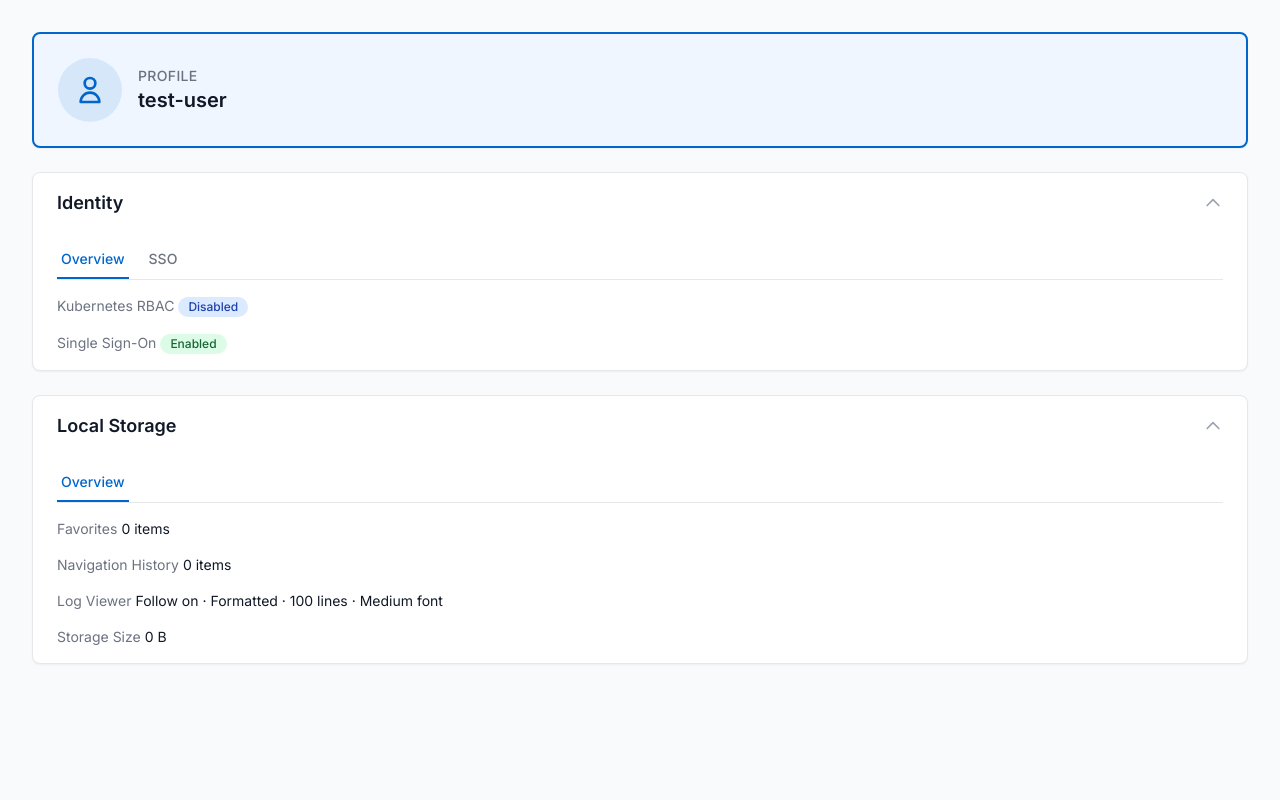
ProfilePage › Identity Panel - SSO Tab › should show provider JSON when SSO tab is clicked
The image size is (1280, 800).
# Click SSO tab
Click the button "SSO": (163, 260) [144,241,181,279]
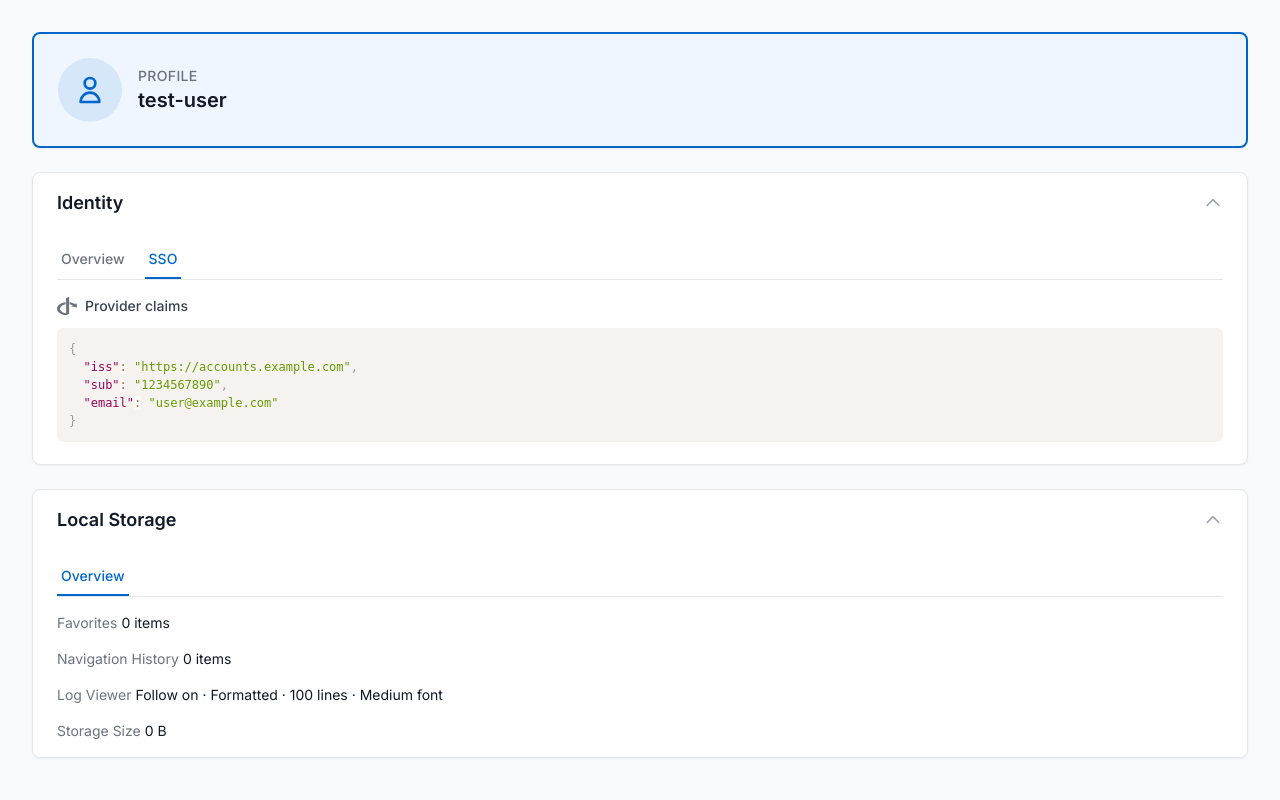
Now the text "\"https://accounts.example.com\"" is shown, box [134,360,351,374]
